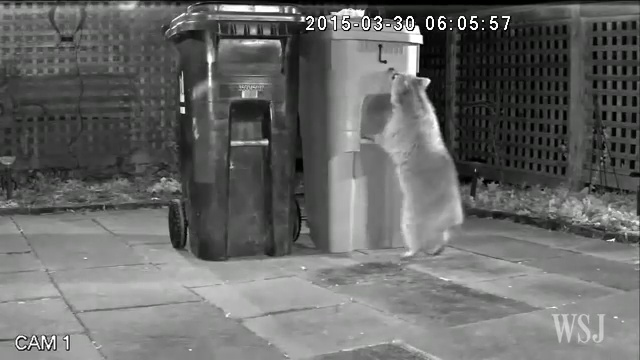raccoon: (371, 65, 472, 262)
